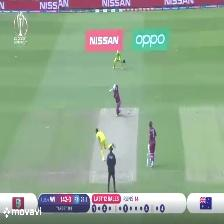batsman: (106, 81, 128, 120)
